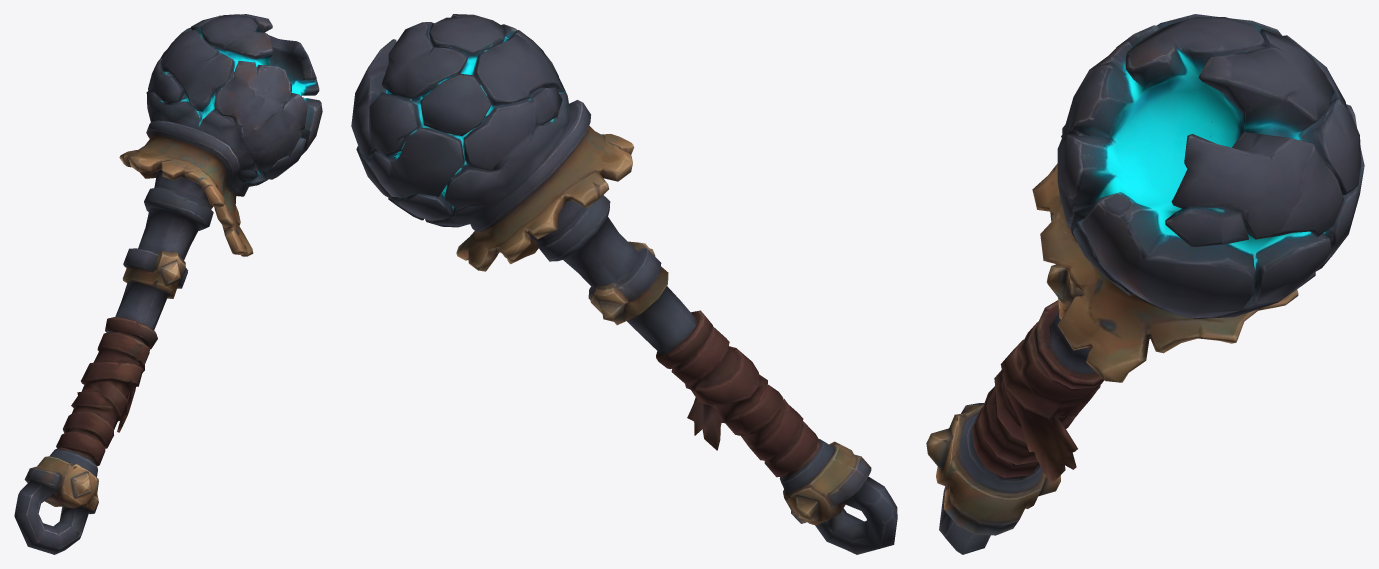
The model's file is tll_ch1_clapper.glb.
The picture shows the model from 3 angles, left to right: view 1: azimuth 30°, elevation 25°; view 2: azimuth 150°, elevation 25°; view 3: azimuth 270°, elevation 25°; orthographic projection. The views are drawn at different scales.
Parts seen in each view (by area): view 1: tripo_node_d227f8ef-e6fa-45e3-b169-02e46780c90b; view 2: tripo_node_d227f8ef-e6fa-45e3-b169-02e46780c90b; view 3: tripo_node_d227f8ef-e6fa-45e3-b169-02e46780c90b.
Part boxes in pixels (x1,y1,x2,y2): tripo_node_d227f8ef-e6fa-45e3-b169-02e46780c90b: (14,14,322,554); tripo_node_d227f8ef-e6fa-45e3-b169-02e46780c90b: (351,14,897,554); tripo_node_d227f8ef-e6fa-45e3-b169-02e46780c90b: (926,14,1364,554).
Bounding box in the file's own units: 0.8892 × 0.9771 × 0.5297.
1 material, 1 textured.
